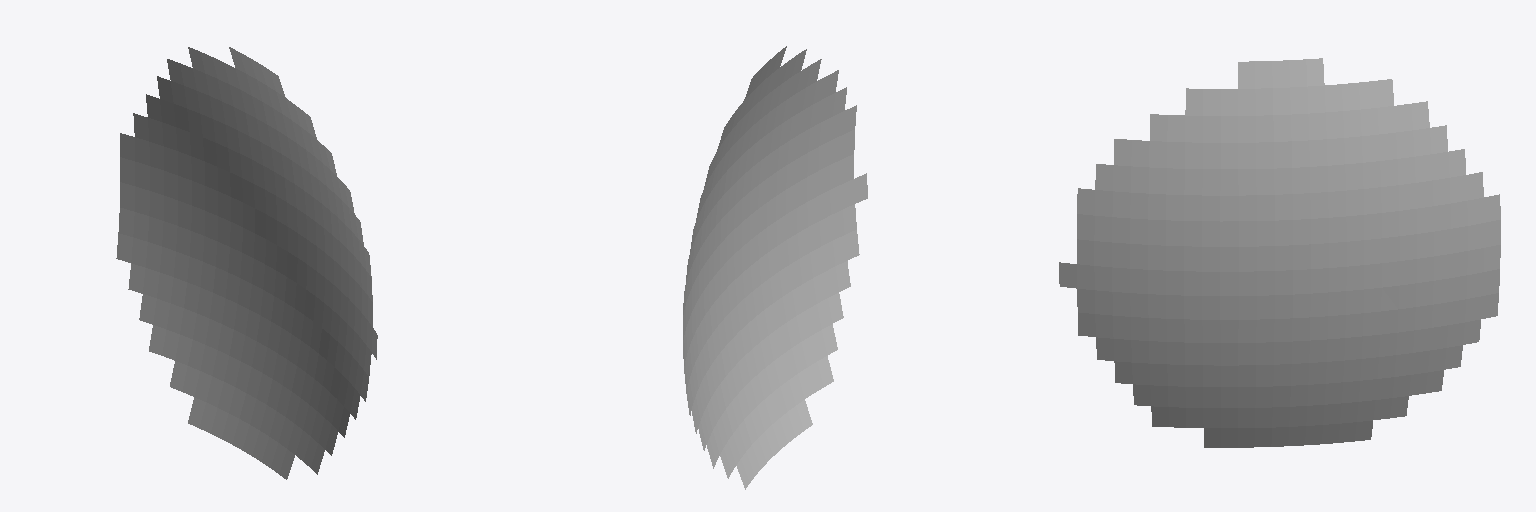
File: convex mirror.obj
3 views of the same model, side by side, from view 1: azimuth 30°, elevation 25°; view 2: azimuth 150°, elevation 25°; view 3: azimuth 270°, elevation 25° (orthographic).
Visible parts, largest first — view 1: Sphere; view 2: Sphere; view 3: Sphere.
Boxes of the visible parts, box(x1,y1,x2,y2) form: Sphere: box(116, 47, 377, 479); Sphere: box(683, 46, 867, 489); Sphere: box(1059, 58, 1500, 447).
Bounding box in the file's own units: 0.1199 × 0.7258 × 0.7446.